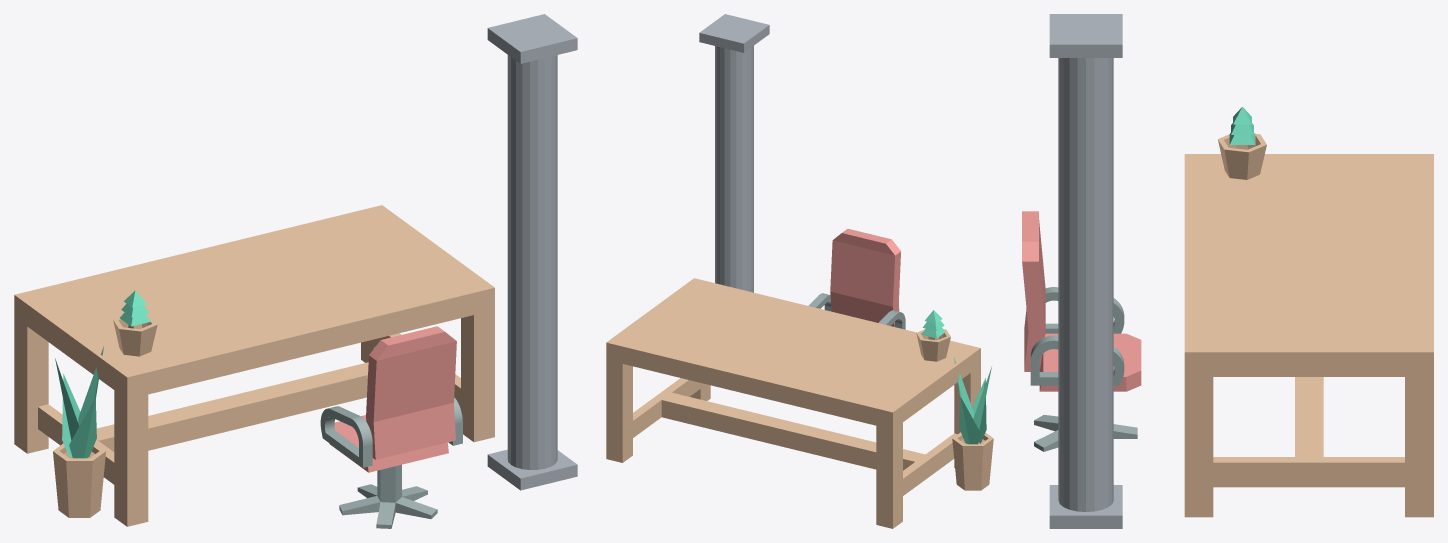
3 renders of one model, left to right at view 1: azimuth 30°, elevation 25°; view 2: azimuth 150°, elevation 25°; view 3: azimuth 270°, elevation 25°, orthographic. The views are drawn at different scales.
Visible parts, largest first — view 1: table_green__table(Clone), column_cyan__column_cyan shaft, deskchair_black__chair, plant_pink__pottedPlant(Clone), column_cyan__column_cyan capital, deskchair_black__chairDesk(Clone), plant_pink__plant, flowerpot_green__plantSmall1(Clone), column_cyan__column_cyan plinth; view 2: table_green__table(Clone), column_cyan__column_cyan shaft, deskchair_black__chair, plant_pink__pottedPlant(Clone), column_cyan__column_cyan capital, plant_pink__plant, flowerpot_green__plantSmall1(Clone); view 3: table_green__table(Clone), column_cyan__column_cyan shaft, deskchair_black__chair, column_cyan__column_cyan capital, flowerpot_green__plantSmall1(Clone), column_cyan__column_cyan plinth, deskchair_black__chairDesk(Clone).
Boxes of the visible parts, x1,y1,x2,y2 form: table_green__table(Clone): (14,205,494,526); column_cyan__column_cyan shaft: (507,55,557,469); deskchair_black__chair: (320,326,462,472); plant_pink__pottedPlant(Clone): (53,443,105,517); column_cyan__column_cyan capital: (487,14,577,63); deskchair_black__chairDesk(Clone): (339,464,437,528); plant_pink__plant: (55,346,103,458); flowerpot_green__plantSmall1(Clone): (113,290,157,356); column_cyan__column_cyan plinth: (487,449,577,490); table_green__table(Clone): (606,278,980,528); column_cyan__column_cyan shaft: (715,46,753,292); deskchair_black__chair: (808,228,905,329); plant_pink__pottedPlant(Clone): (952,432,993,490); column_cyan__column_cyan capital: (699,14,769,52); plant_pink__plant: (954,357,991,444); flowerpot_green__plantSmall1(Clone): (916,310,950,361); table_green__table(Clone): (1184,154,1433,517); column_cyan__column_cyan shaft: (1058,58,1113,511); deskchair_black__chair: (1022,211,1141,391); column_cyan__column_cyan capital: (1049,14,1122,57); flowerpot_green__plantSmall1(Clone): (1218,107,1266,179); column_cyan__column_cyan plinth: (1049,485,1122,528); deskchair_black__chairDesk(Clone): (1034,415,1137,451).
Size of the model in its own units: 2.27 by 2.2 by 1.7.
